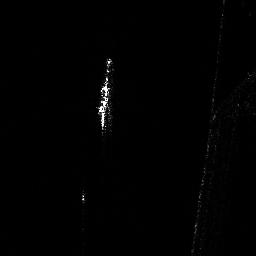ship: (98, 57, 115, 131)
